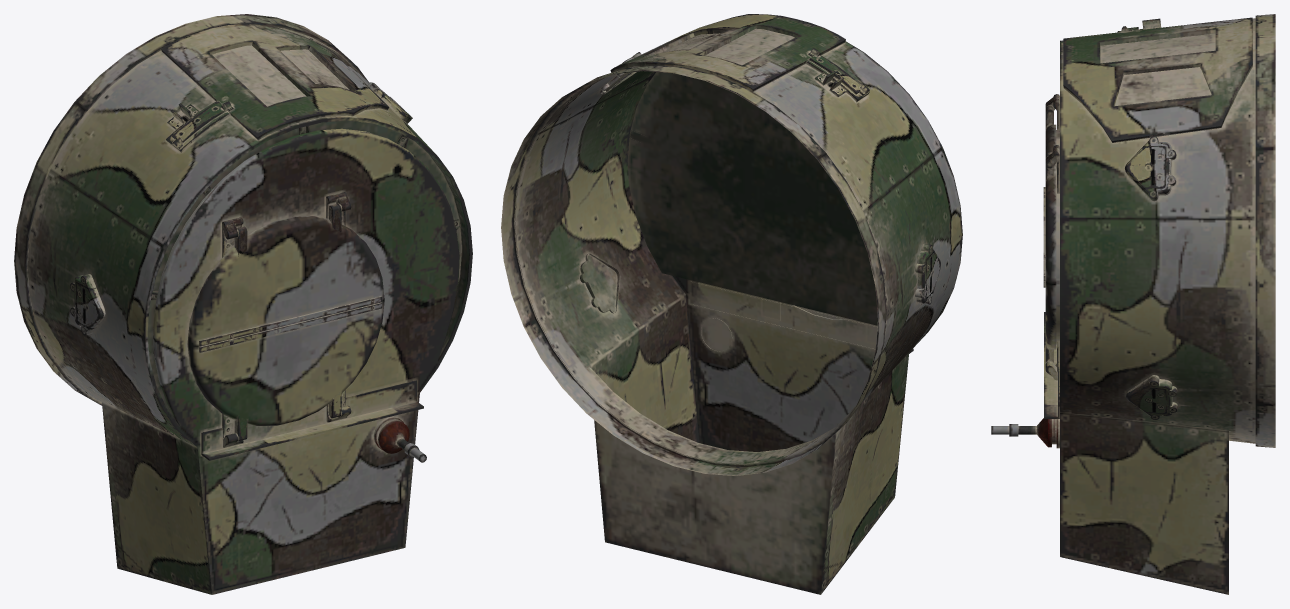
File: Turret_01.glb
The picture shows the model from 3 angles, left to right: view 1: azimuth 30°, elevation 25°; view 2: azimuth 150°, elevation 25°; view 3: azimuth 270°, elevation 25°; orthographic projection.
Parts seen in each view (by area): view 1: set_0_group_0; view 2: set_0_group_0; view 3: set_0_group_0.
Boxes of the visible parts, x1,y1,x2,y2 form: set_0_group_0: [14, 14, 472, 594]; set_0_group_0: [501, 14, 962, 594]; set_0_group_0: [991, 14, 1275, 594].
Size of the model in its own units: 1.25 by 1.62 by 0.8215.
Materials: 1 (1 with a texture image).
